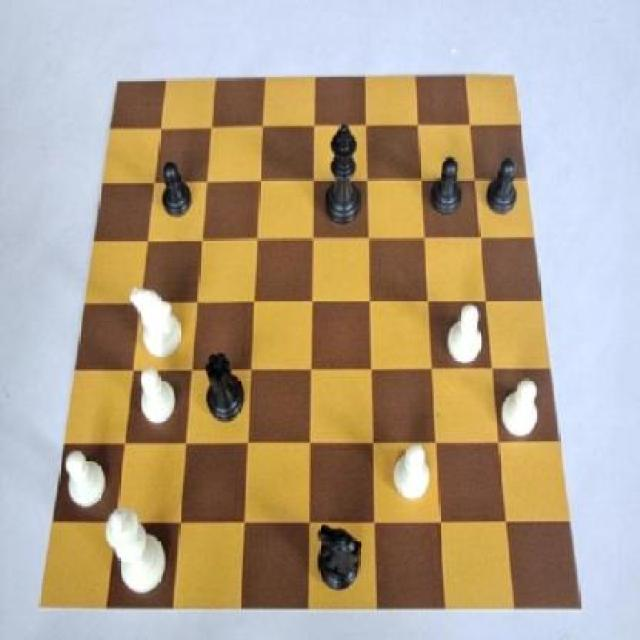black-bishop: (320, 118, 368, 231)
black-king: (314, 520, 371, 602)
black-knight: (425, 154, 467, 223), (152, 160, 198, 222), (483, 150, 520, 222)
black-queen: (201, 342, 247, 423)
white-bishop: (101, 504, 166, 594)
white-king: (130, 282, 192, 361)
white-knight: (386, 438, 437, 510), (134, 366, 183, 434), (63, 446, 111, 514), (443, 302, 488, 372), (497, 375, 543, 443)
